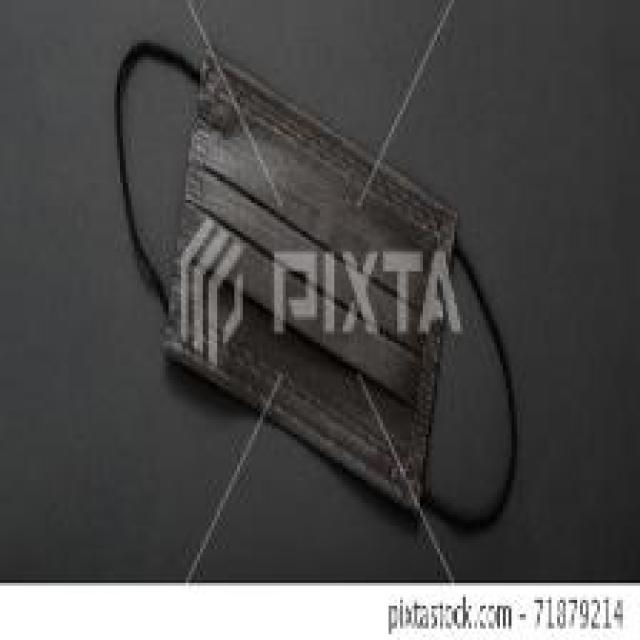Mask: (94, 27, 559, 542)
